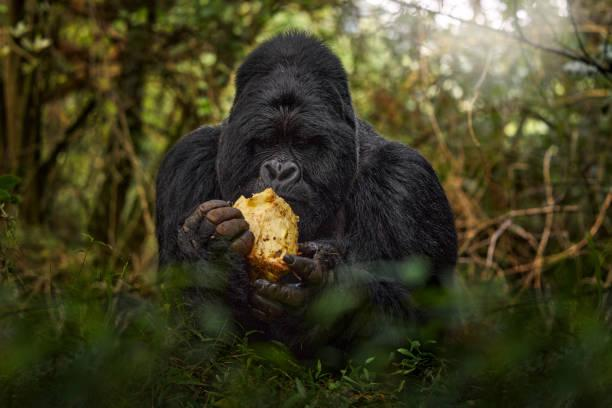goriile_montagne: (139, 2, 469, 370)
